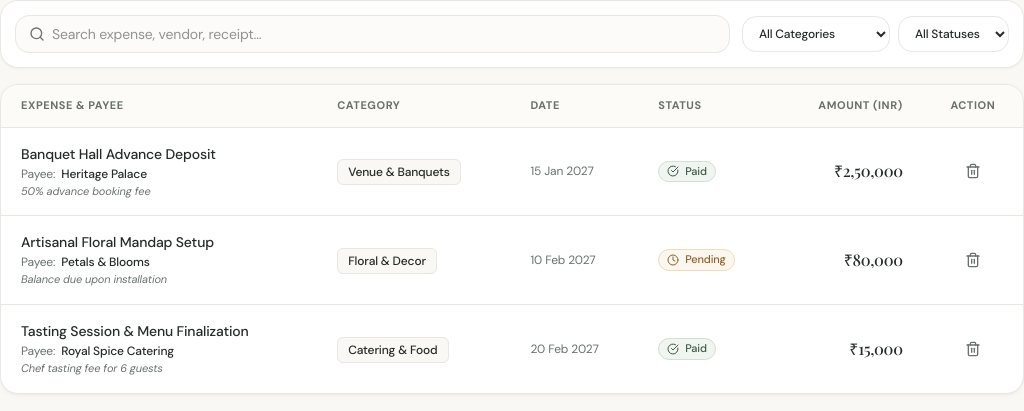
Test case: ExpenseTable Component & Accessibility › filters expenses by payment status dropdown
Select "Pending" in the dropdown named "Filter expenses by payment status" at (954, 34), box 898,16 -> 1009,52
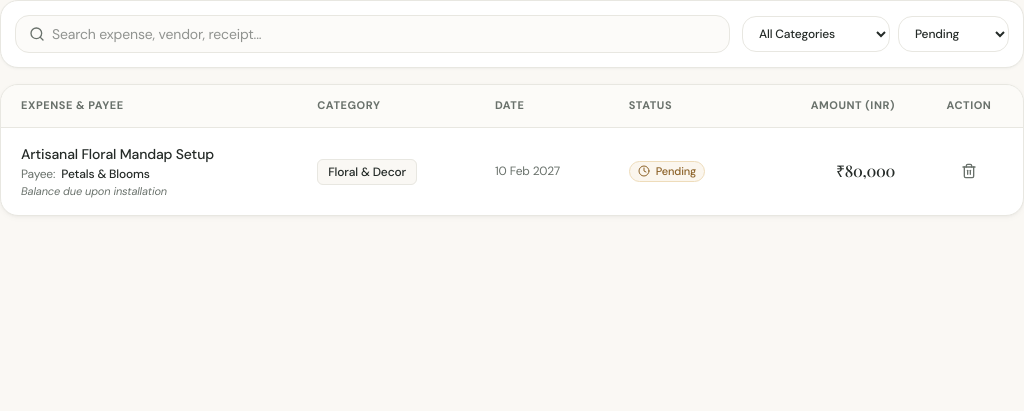
Expected: the text "Artisanal Floral Mandap Setup" is shown, 21,145 -> 214,163
Expected: the text "Banquet Hall Advance Deposit" is gone
Expected: the text "Tasting Session & Menu Finalization" is gone
